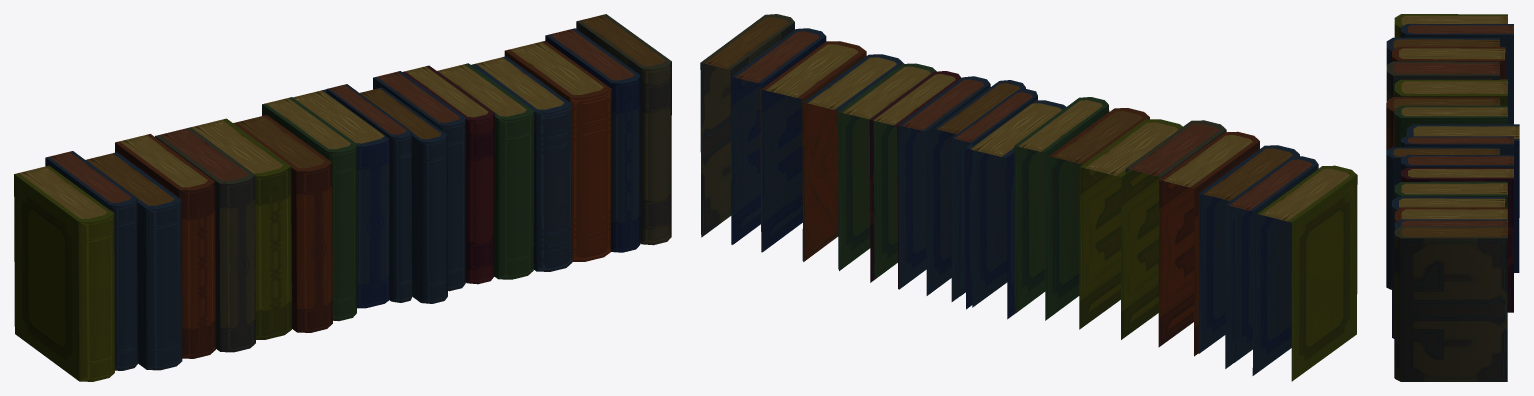
Rendered from BookGroup_Medium_3.glb.
3 renders of one model, left to right at view 1: azimuth 30°, elevation 25°; view 2: azimuth 150°, elevation 25°; view 3: azimuth 270°, elevation 25°, orthographic. The views are drawn at different scales.
Parts seen in each view (by area): view 1: BookGroup_Medium_3; view 2: BookGroup_Medium_3; view 3: BookGroup_Medium_3.
Boxes of the visible parts, x1=… form: BookGroup_Medium_3: x1=14, y1=14, x2=671, y2=381; BookGroup_Medium_3: x1=700, y1=14, x2=1357, y2=381; BookGroup_Medium_3: x1=1386, y1=14, x2=1519, y2=381.
Size of the model in its own units: 1.04 by 0.2949 by 0.2475.
Materials: 1 (1 with a texture image).
